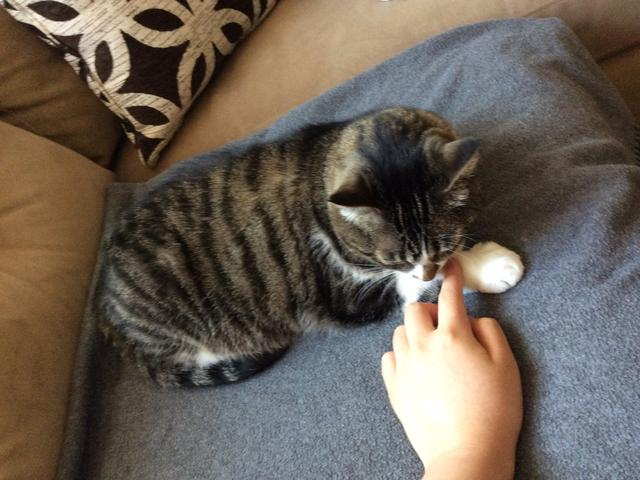playdoh: (90, 105, 527, 392)
